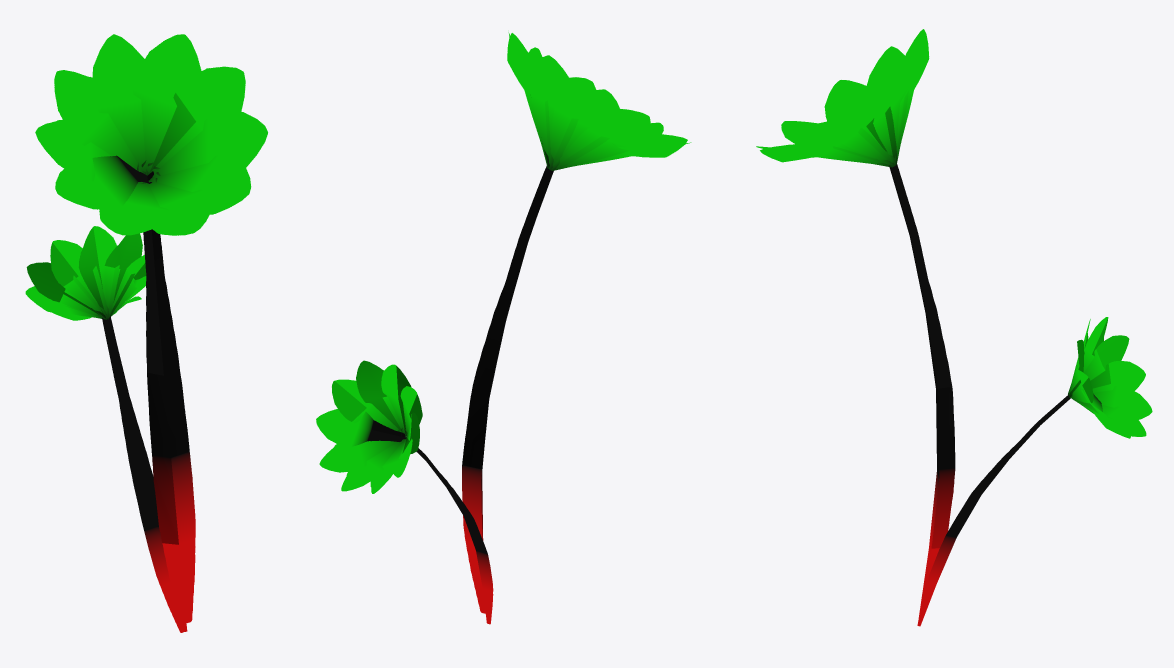
The model's file is Flower1.fbx.
The picture shows the model from 3 angles, left to right: view 1: azimuth 30°, elevation 25°; view 2: azimuth 150°, elevation 25°; view 3: azimuth 270°, elevation 25°; orthographic projection. The views are drawn at different scales.
Parts seen in each view (by area): view 1: Flower1; view 2: Flower1; view 3: Flower1.
Boxes of the visible parts, x1=… form: Flower1: x1=25, y1=34, x2=267, y2=632; Flower1: x1=316, y1=32, x2=691, y2=624; Flower1: x1=756, y1=29, x2=1152, y2=626.
Bounding box in the file's own units: 1.49 × 3.42 × 2.2.
